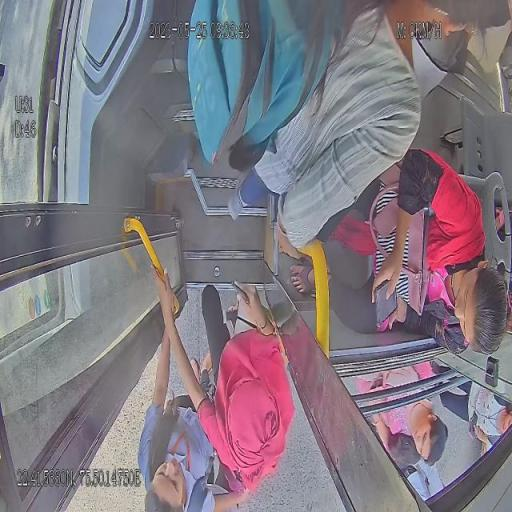persona: (184, 0, 480, 253), (279, 148, 508, 358), (150, 252, 292, 486), (137, 261, 240, 512)
